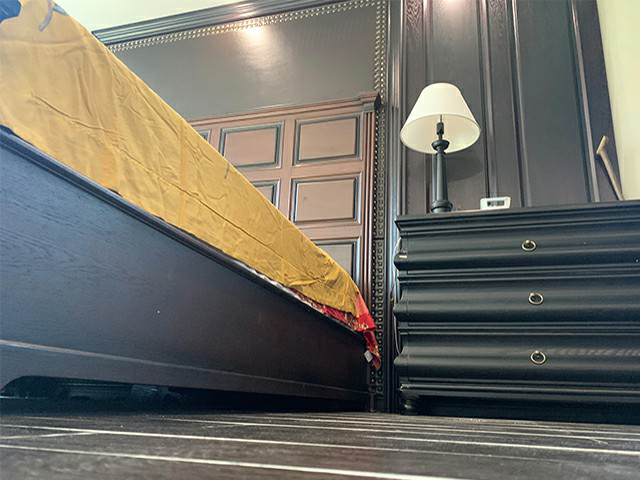bed: (1, 1, 381, 413)
cabinet: (392, 199, 640, 416)
